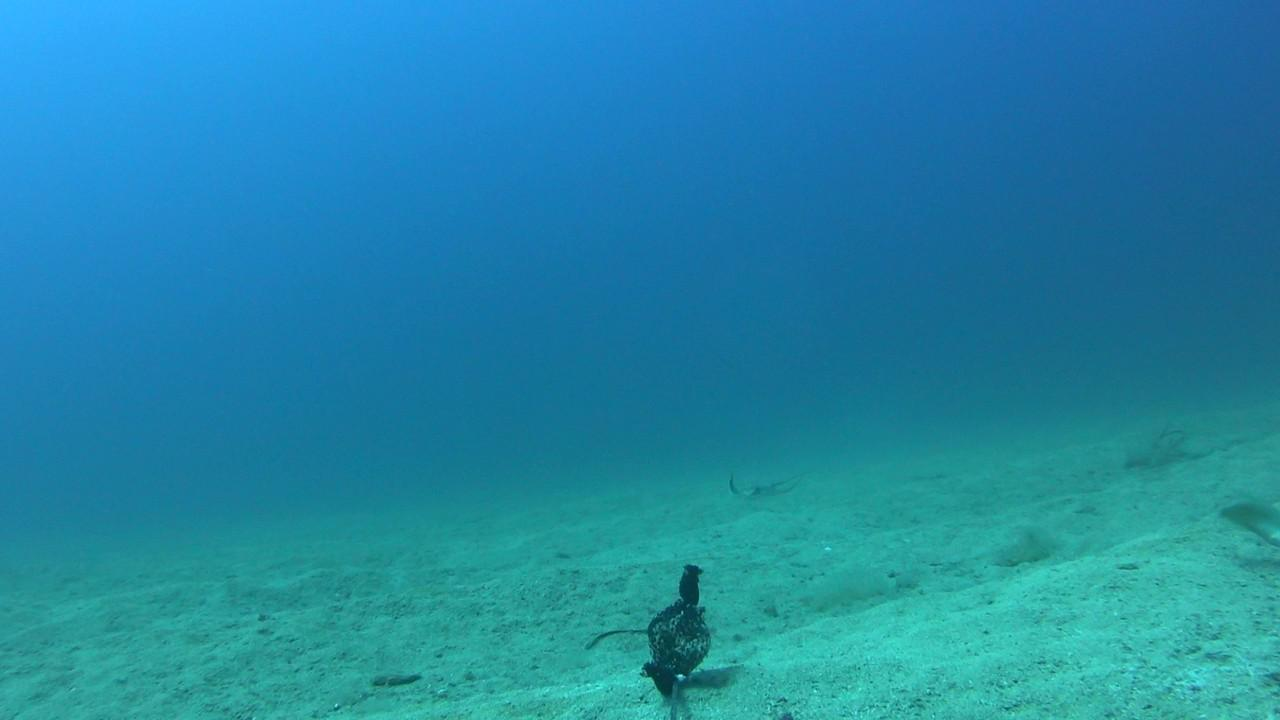myliobatis: (716, 462, 810, 510)
